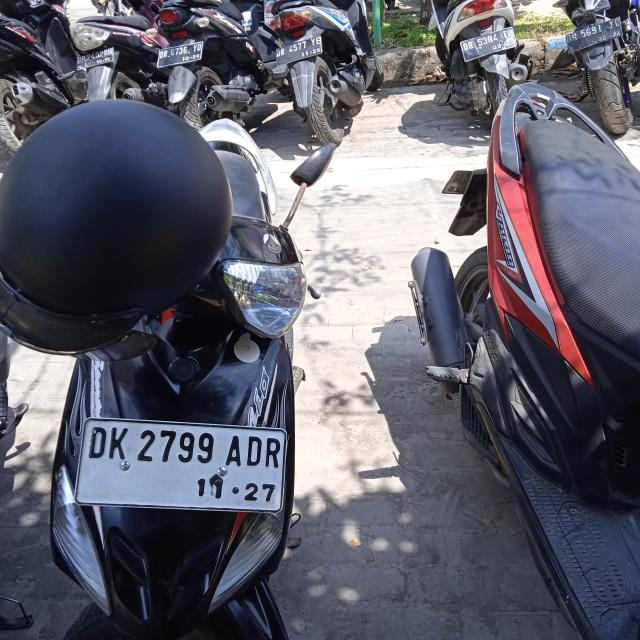plate: (73, 416, 287, 515), (564, 15, 624, 56), (459, 25, 517, 64), (156, 40, 204, 69), (276, 36, 322, 65), (76, 46, 115, 71)
